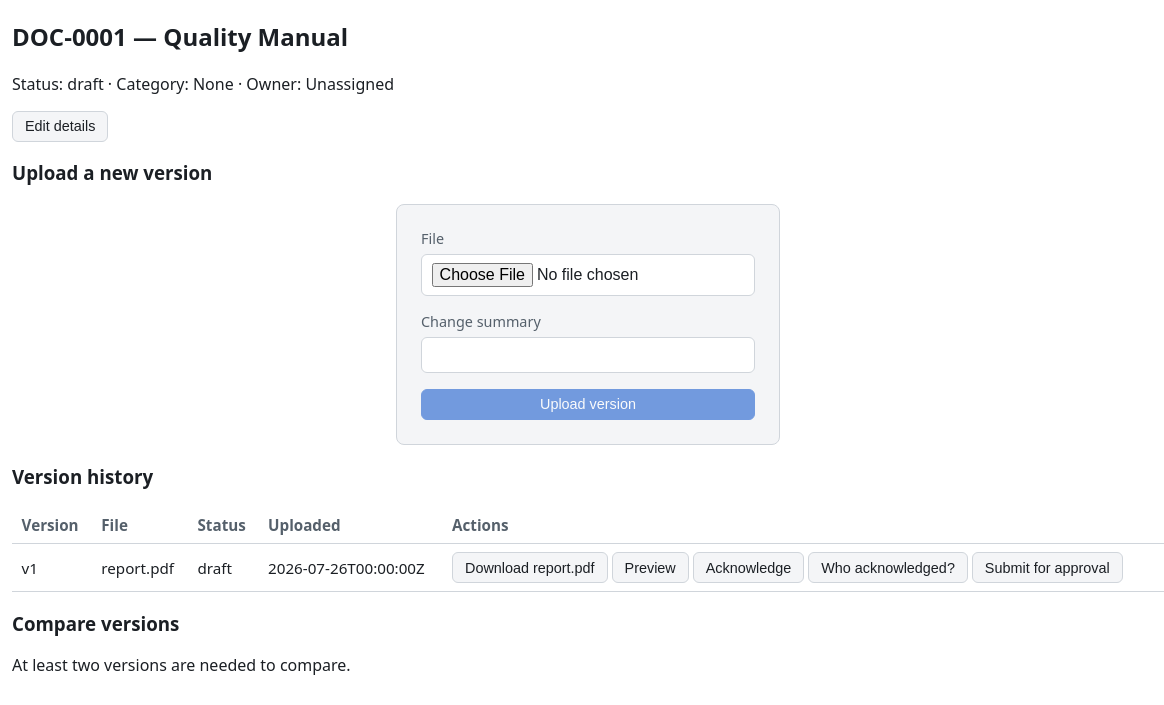
Test case: DocumentDetailPage › shows who has acknowledged a version
The width and height of the screenshot is (1164, 705).
Expected: the text "report.pdf" is shown, [92,544,188,592]
Click the button "Who acknowledged?" at x=888, y=568, box [808,552,968,583]
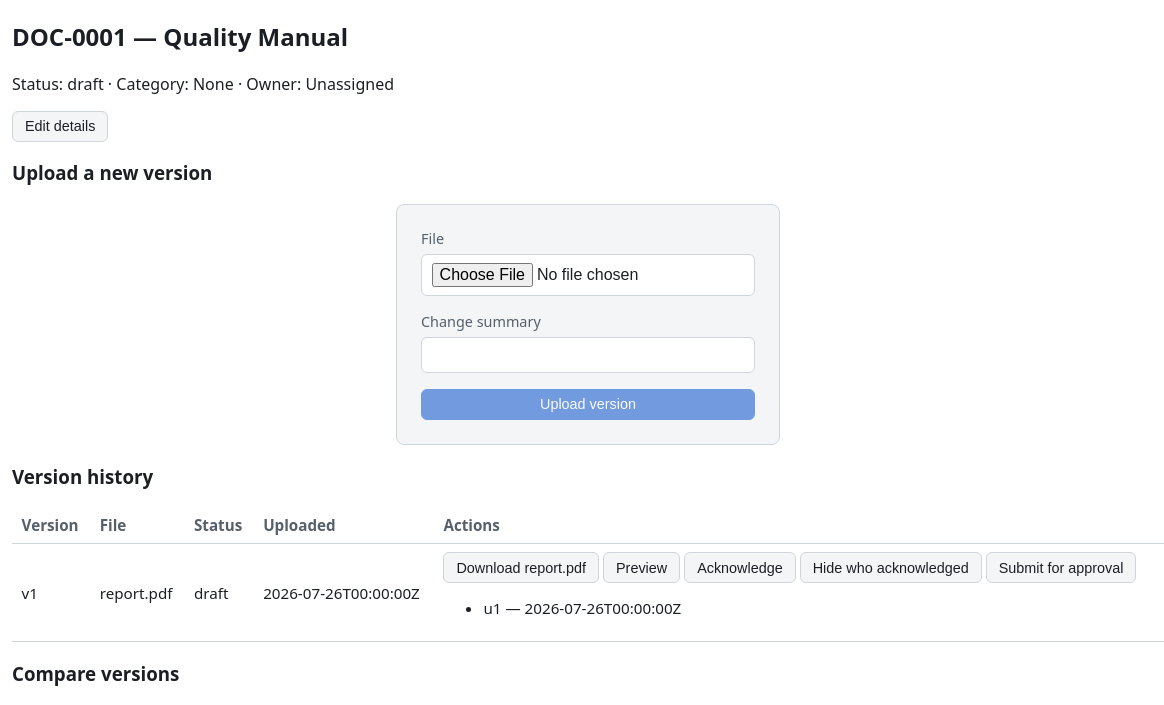
Expected: the list item "u1 — 2026-07-26T00:00:00Z" is shown, [483,598,681,618]
